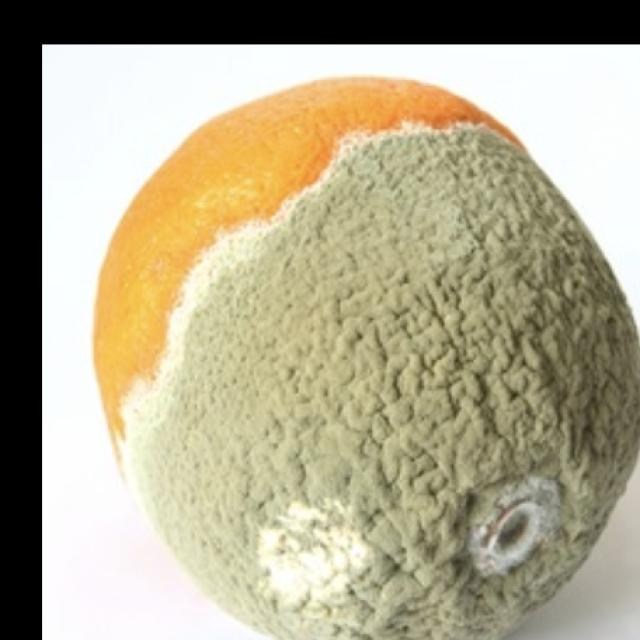sangat_busuk: (104, 74, 639, 639)
